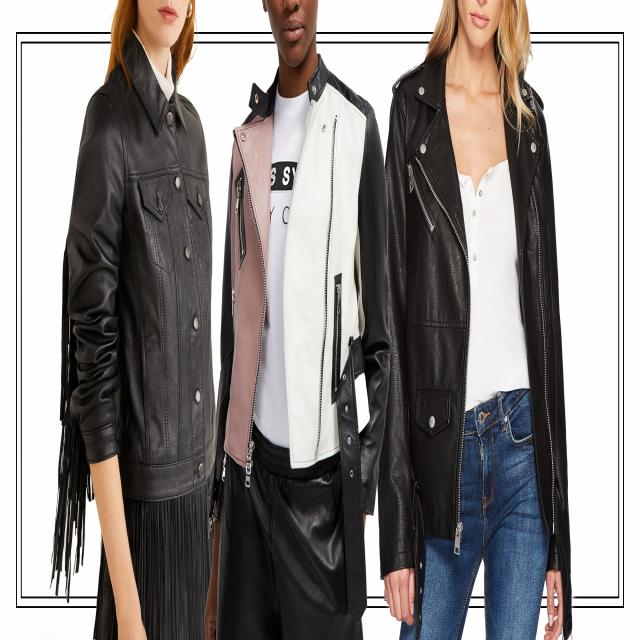Jacket: (370, 68, 580, 578), (36, 61, 220, 550), (221, 70, 389, 524)
